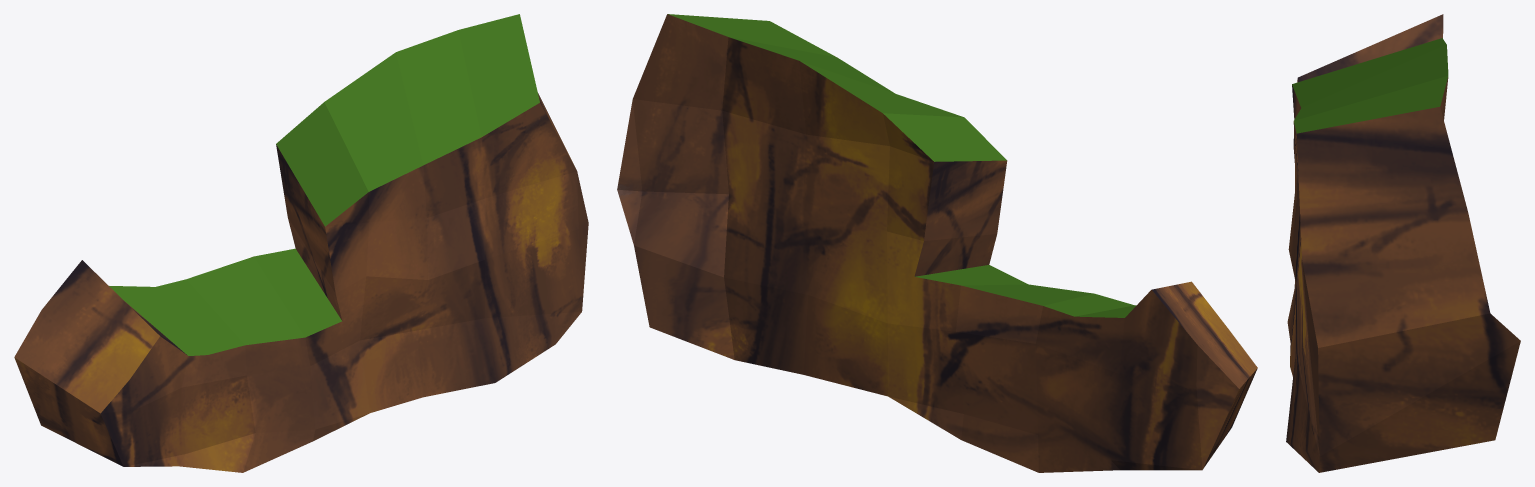
The model's file is sali102.obj.
3 renders of one model, left to right at view 1: azimuth 30°, elevation 25°; view 2: azimuth 150°, elevation 25°; view 3: azimuth 270°, elevation 25°, orthographic. The views are drawn at different scales.
Parts seen in each view (by area): view 1: Plane.061_Plane.067; view 2: Plane.061_Plane.067; view 3: Plane.061_Plane.067.
Part boxes in pixels (bbox=[...]): Plane.061_Plane.067: bbox=[14, 14, 588, 472]; Plane.061_Plane.067: bbox=[617, 14, 1257, 472]; Plane.061_Plane.067: bbox=[1286, 14, 1520, 472].
Size of the model in its own units: 143 by 84.98 by 42.58.
Materials: 1 (1 with a texture image).
